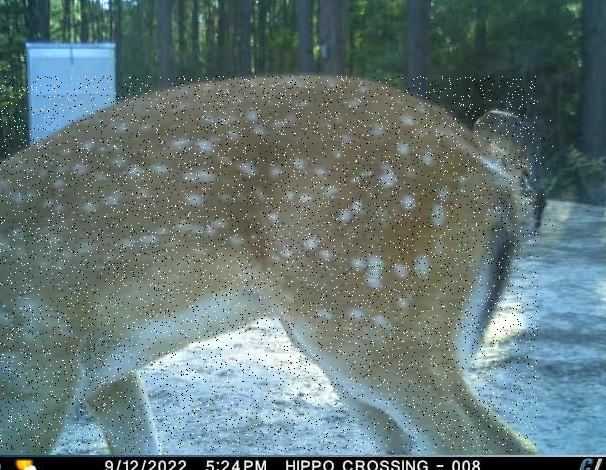Deer: (0, 76, 538, 453), (473, 106, 554, 228)
